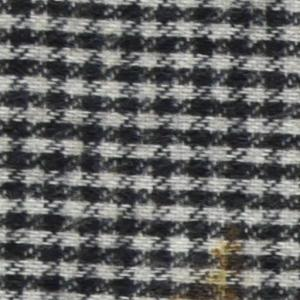Oil Stain: (167, 222, 253, 300)
